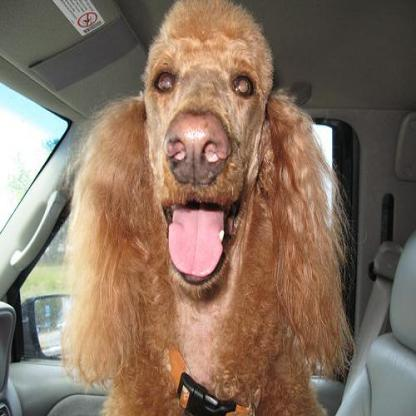standard_poodle: (59, 0, 355, 414)
